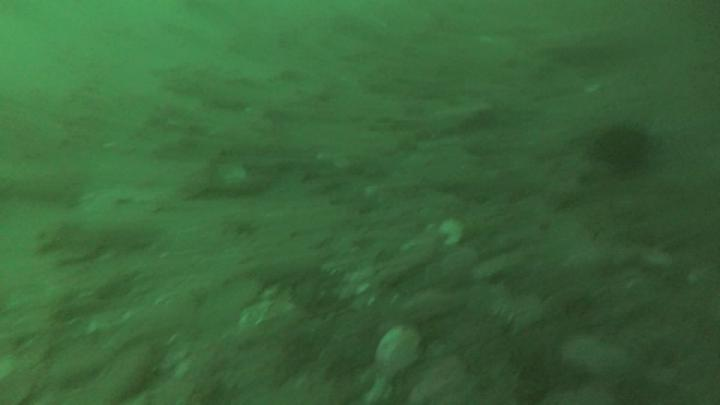echinus: (601, 126, 648, 171)
scallop: (376, 326, 423, 377)
